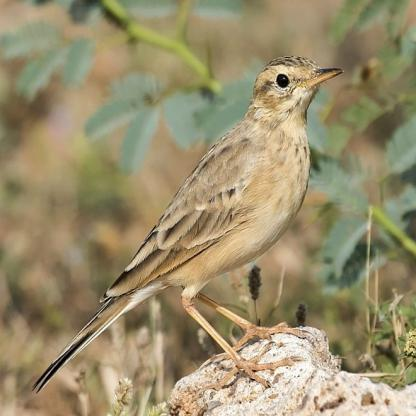Burung: (29, 57, 344, 396)
